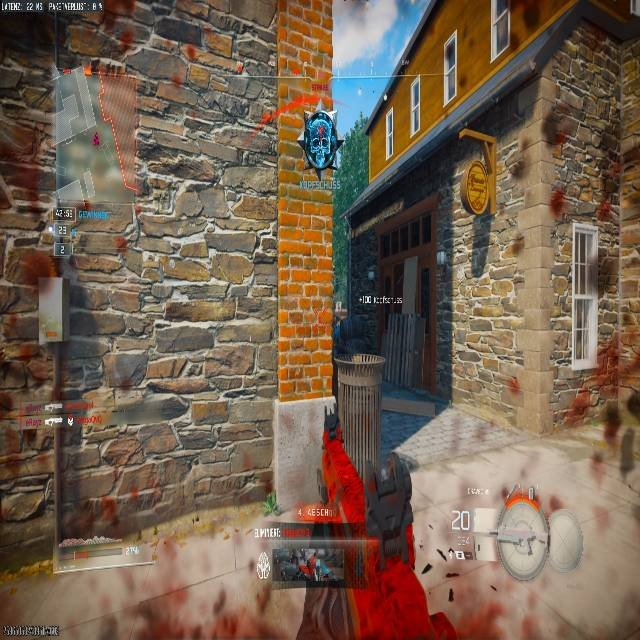player: (300, 106, 344, 176)
